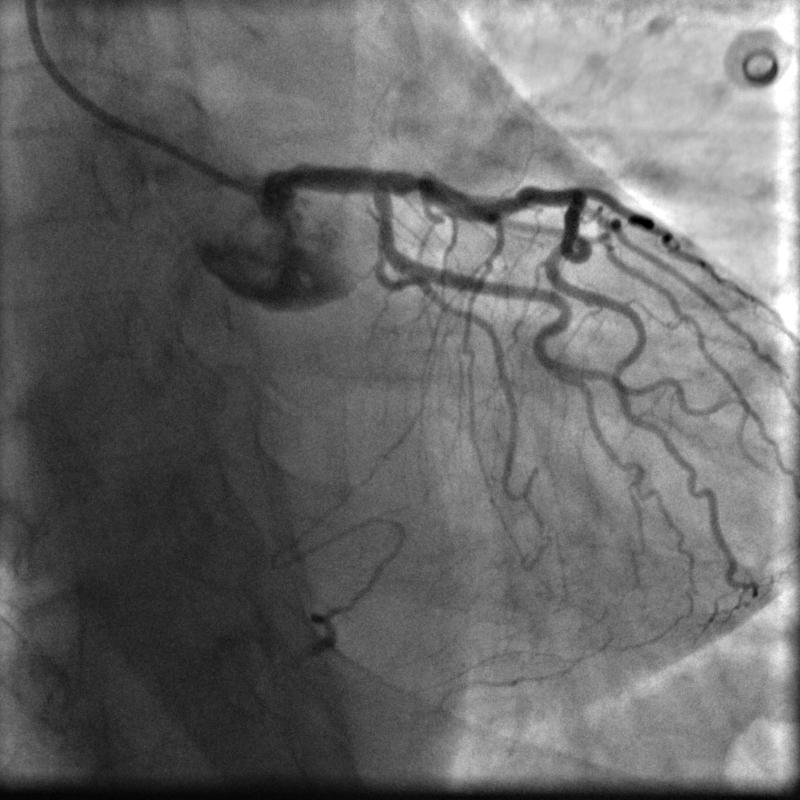Stenosis: (402, 165, 431, 203)
